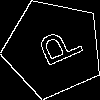P: (28, 23, 85, 73)
